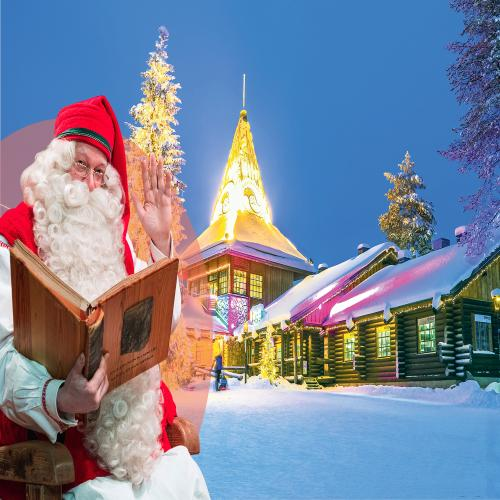Santa: (0, 94, 206, 500)
